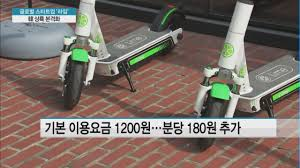kick_wheel: (61, 37, 89, 107), (160, 6, 186, 50)
